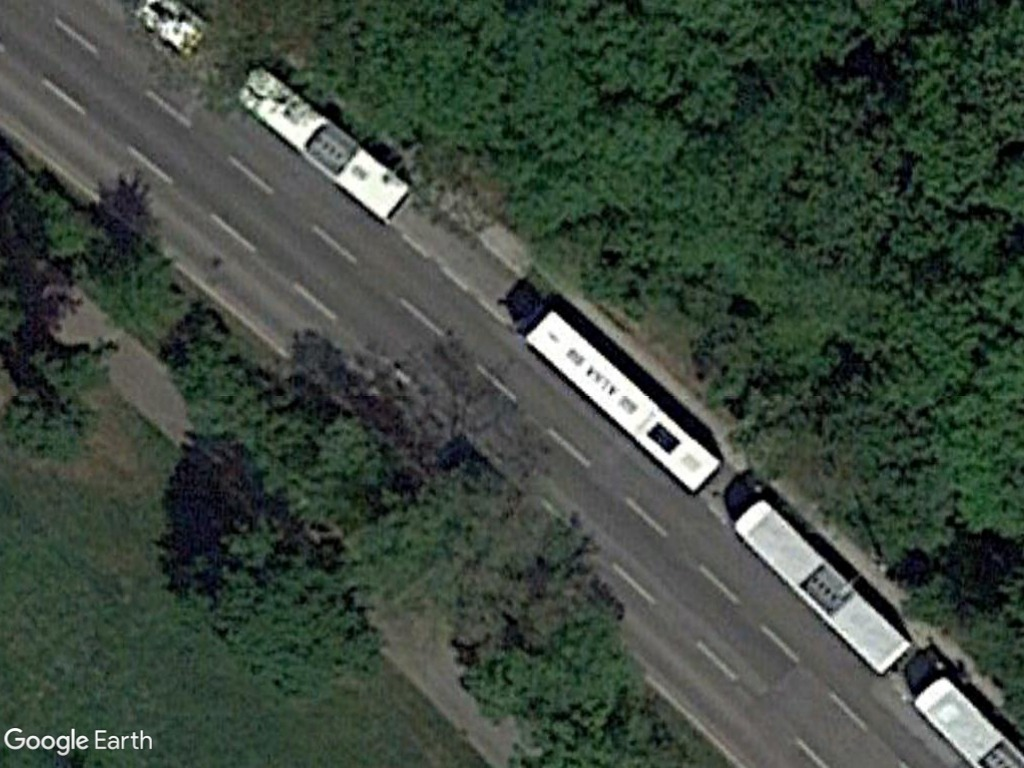bus: (525, 304, 726, 499), (734, 493, 914, 682), (234, 65, 416, 229)
